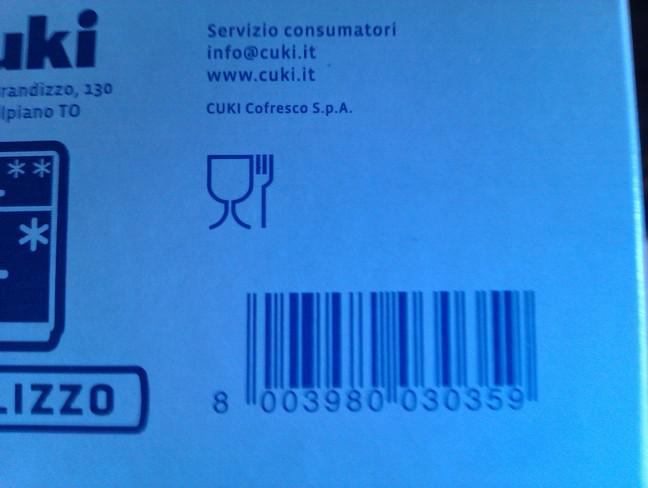Barkod: (161, 270, 569, 428)
